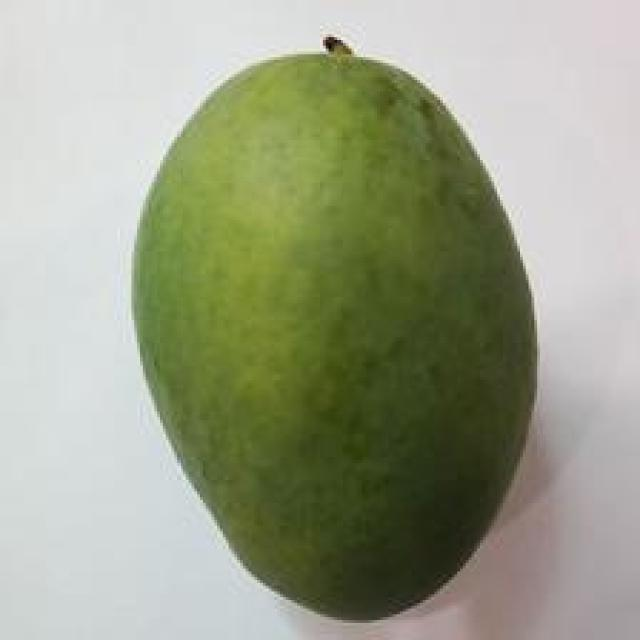Good_Mango: (129, 37, 540, 626)
